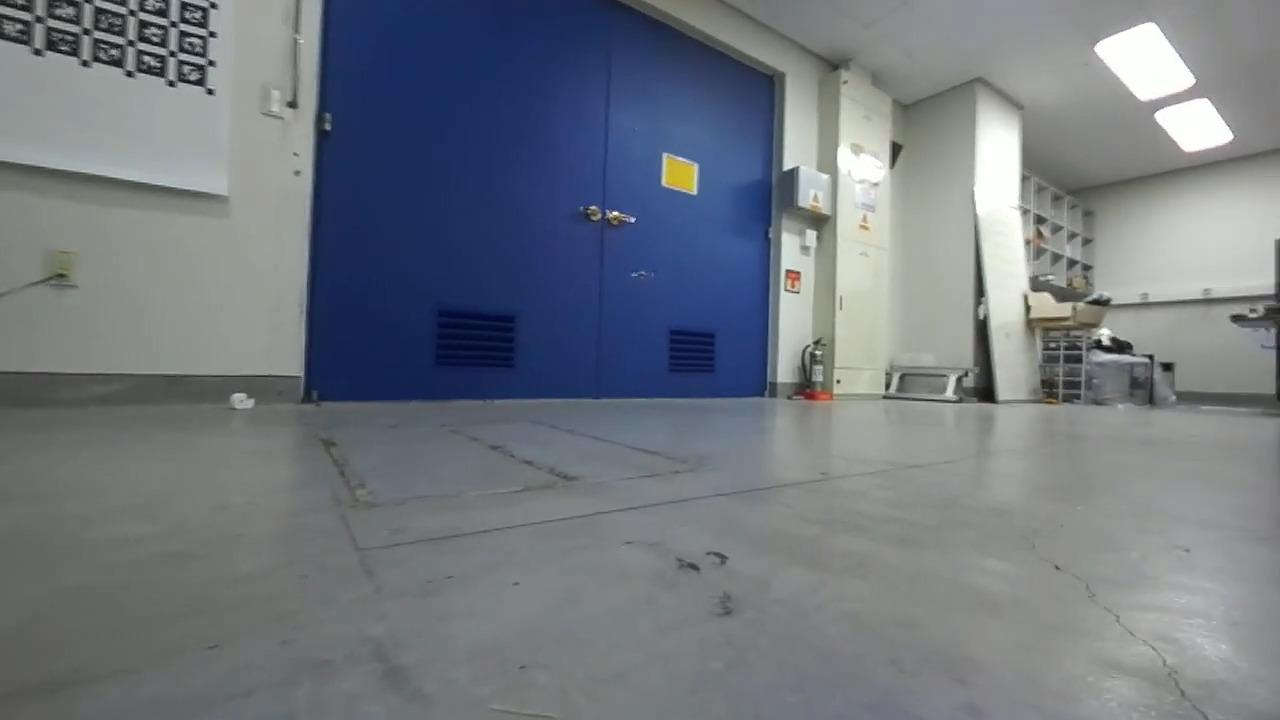crazyflie: (624, 265, 658, 285)
